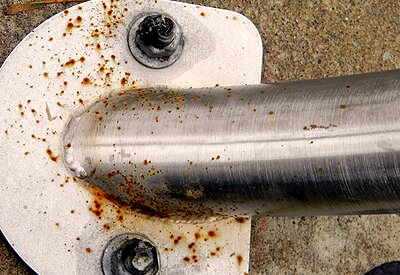Low: (5, 79, 281, 138), (73, 161, 231, 230), (46, 1, 137, 95), (171, 215, 248, 269)
